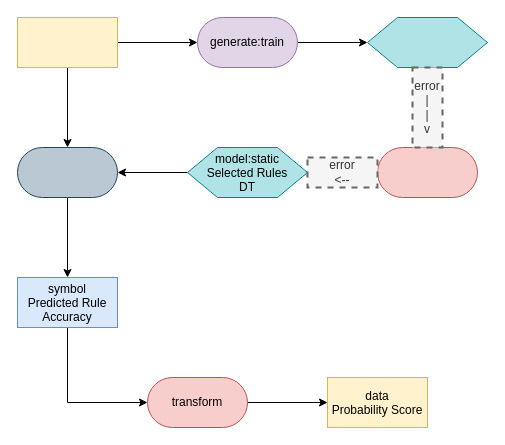
Image size: 505x445. Some labels were removed from this diagram. The shapes that lost their labels are listed below. From the top down, each one's box as (x1, y1, x2, y2) in pixels, then its label:
(16, 16, 118, 68): data Clinical Dataset
(366, 16, 488, 68): model:static Decision Trees
(16, 146, 118, 198): infer:deduce
(376, 146, 478, 198): transform:embed
